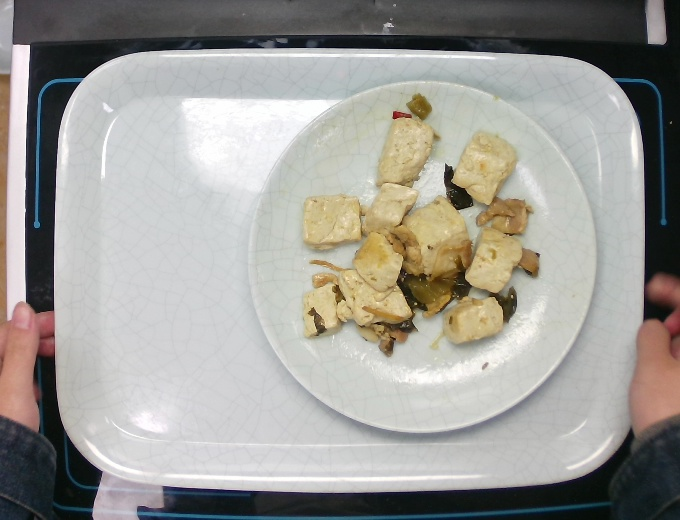JYsf-Da_Yuan_Pan: (237, 75, 613, 438)
